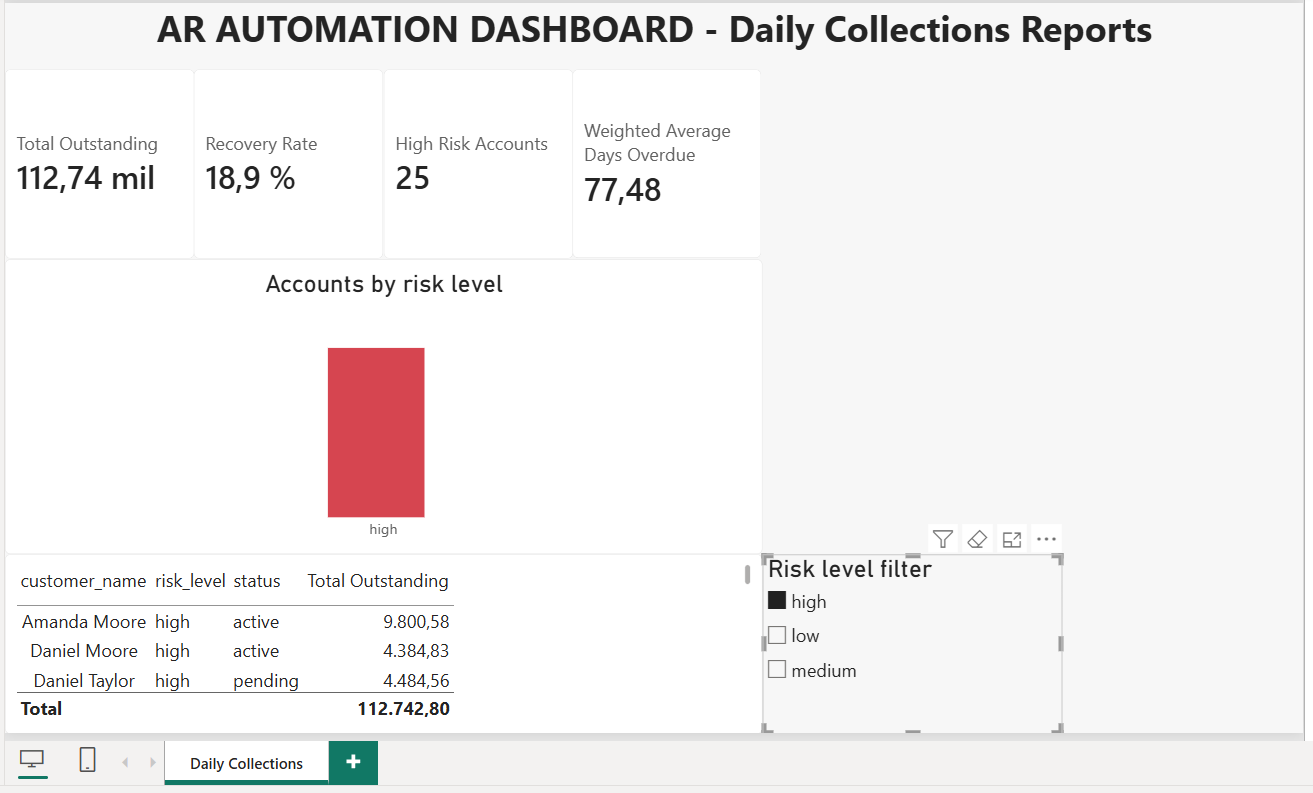

Layout of this report page (visuals, bound fields, positions):
{"tool":"powerbi","page":{"name":"Daily Collections","canvas":[1920,1080],"ordinal":0},"visuals":[{"type":"cardVisual","fields":{"Data":["public invoices_clean.Total Outstanding"]},"box":[0,98,280,280],"z":0},{"type":"cardVisual","fields":{"Data":["public invoices_clean.Recovery Rate"]},"box":[279.9,98,280,280],"z":1000},{"type":"cardVisual","fields":{"Data":["public invoices_clean.High Risk Accounts"]},"box":[559.9,98,280,280],"z":2000},{"type":"cardVisual","fields":{"Data":["public invoices_clean.Weighted Avegare Days Overdue"]},"box":[839.8,98,279.9,279.9],"z":3000},{"type":"columnChart","title":"Accounts by risk level","fields":{"Category":["public accounts_clean.risk_level"],"Y":["CountNonNull(public accounts_clean.id)"]},"box":[0,378.7,1119.7,436.4],"z":4000},{"type":"tableEx","fields":{"Values":["public accounts_clean.customer_name","public accounts_clean.risk_level","public accounts_clean.status","public invoices_clean.Total Outstanding"]},"box":[0,815.1,1119.7,265.5],"z":5000},{"type":"slicer","fields":{"Values":["public accounts_clean.risk_level"]},"box":[1119.7,815.1,444.6,265.5],"z":6000},{"type":"textbox","box":[0,0,1920.4,98.8],"z":6001}]}

Visuals, with their boxes on the page's 1920x1080 design canvas (x1, y1, x2, y2). These are canvas units, not pixel positions in the 1313x793 screenshot, which may show the page scaled, cropped or inside an application window:
cardVisual - public invoices_clean.Total Outstanding: (0, 98, 280, 378)
cardVisual - public invoices_clean.Recovery Rate: (280, 98, 560, 378)
cardVisual - public invoices_clean.High Risk Accounts: (560, 98, 840, 378)
cardVisual - public invoices_clean.Weighted Avegare Days Overdue: (840, 98, 1120, 378)
"Accounts by risk level" columnChart: (0, 379, 1120, 815)
tableEx - public accounts_clean.customer_name x public accounts_clean.risk_level: (0, 815, 1120, 1081)
slicer - public accounts_clean.risk_level: (1120, 815, 1564, 1081)
textbox: (0, 0, 1920, 99)
